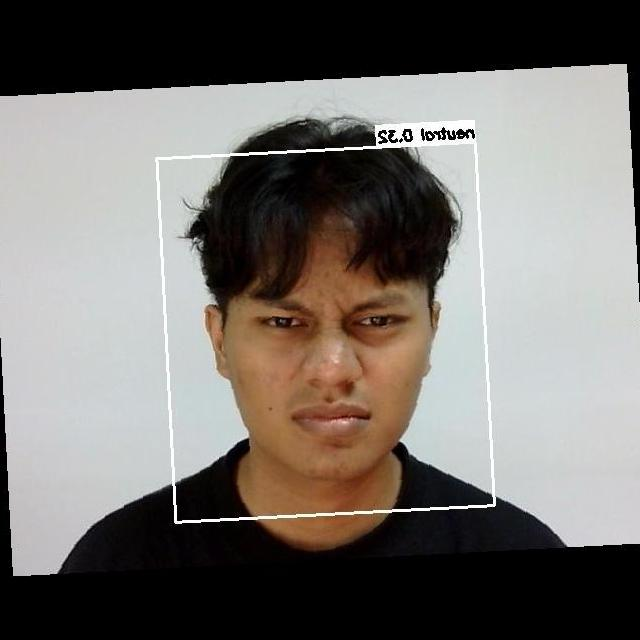Angry: (223, 258, 448, 455)
